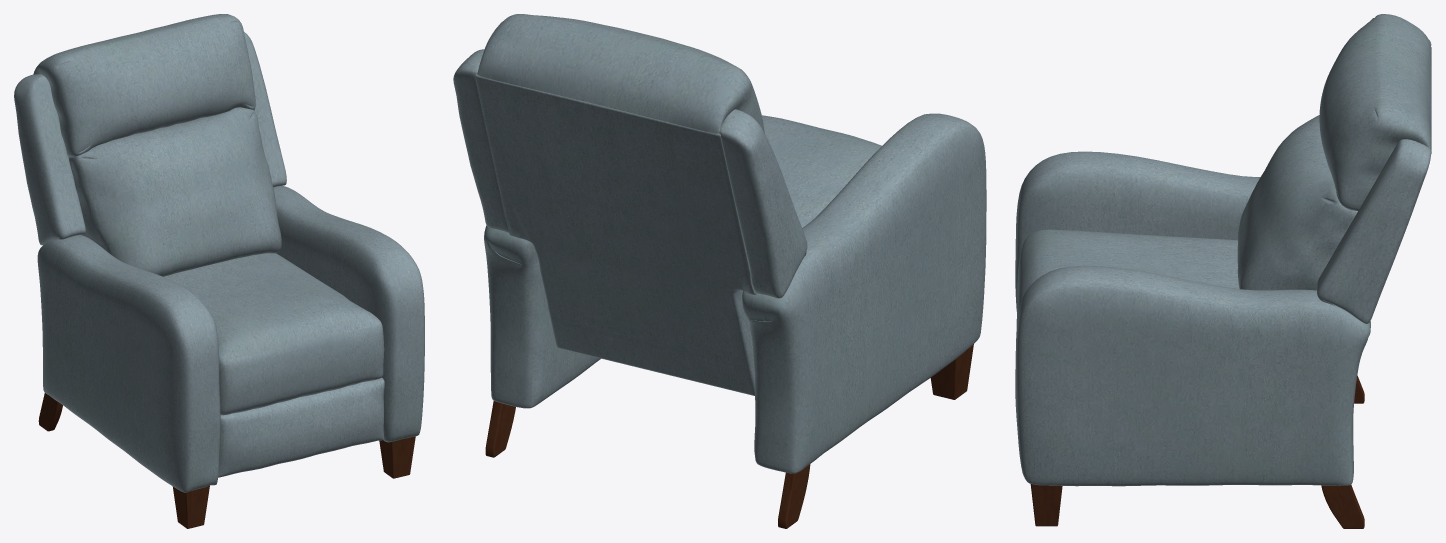
Rendered from B085FJW92H.glb.
The picture shows the model from 3 angles, left to right: view 1: azimuth 30°, elevation 25°; view 2: azimuth 150°, elevation 25°; view 3: azimuth 270°, elevation 25°; orthographic projection. The views are drawn at different scales.
Visible parts, largest first — view 1: RootNode; view 2: RootNode; view 3: RootNode.
Boxes of the visible parts, bbox=[...] form: RootNode: bbox=[14, 14, 424, 528]; RootNode: bbox=[453, 14, 986, 528]; RootNode: bbox=[1015, 14, 1431, 528].
Bounding box in the file's own units: 0.785 × 1.07 × 0.9882.
1 material, 1 textured.
